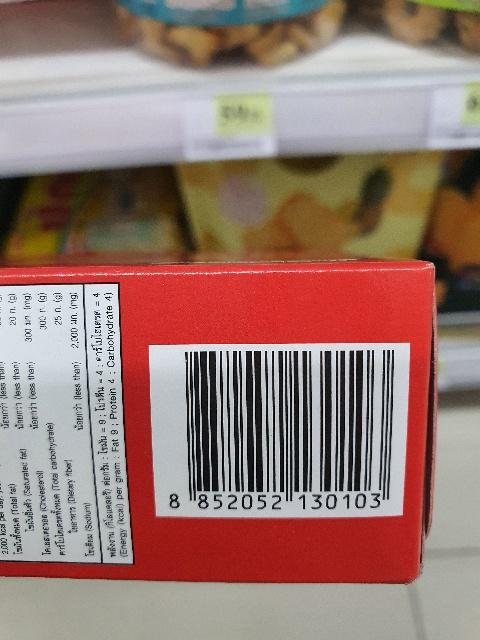Barcode: (156, 346, 403, 517)
